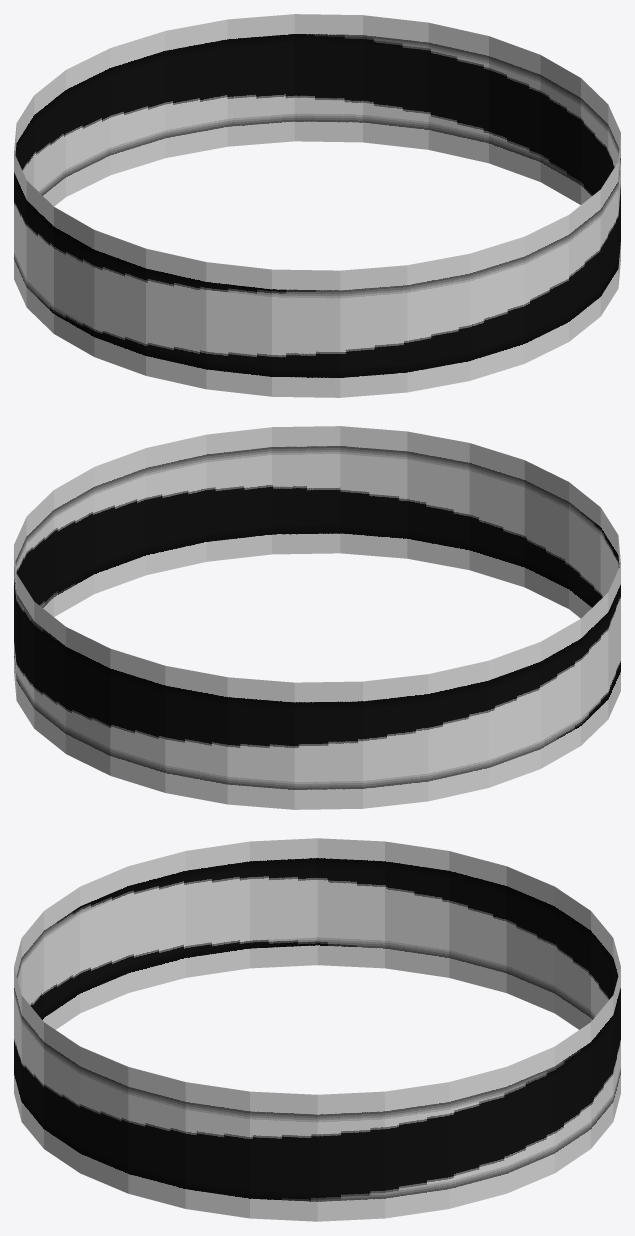
File: ring06.fbx
3 renders of one model, top to bottom at view 1: azimuth 30°, elevation 25°; view 2: azimuth 150°, elevation 25°; view 3: azimuth 270°, elevation 25°, orthographic.
Parts seen in each view (by area): view 1: ring06; view 2: ring06; view 3: ring06.
Boxes of the visible parts, x1,y1,x2,y2 form: ring06: (14, 14, 620, 397); ring06: (14, 426, 620, 809); ring06: (14, 838, 620, 1221).
Bounding box in the file's own units: 3.13 × 0.7224 × 3.13.
